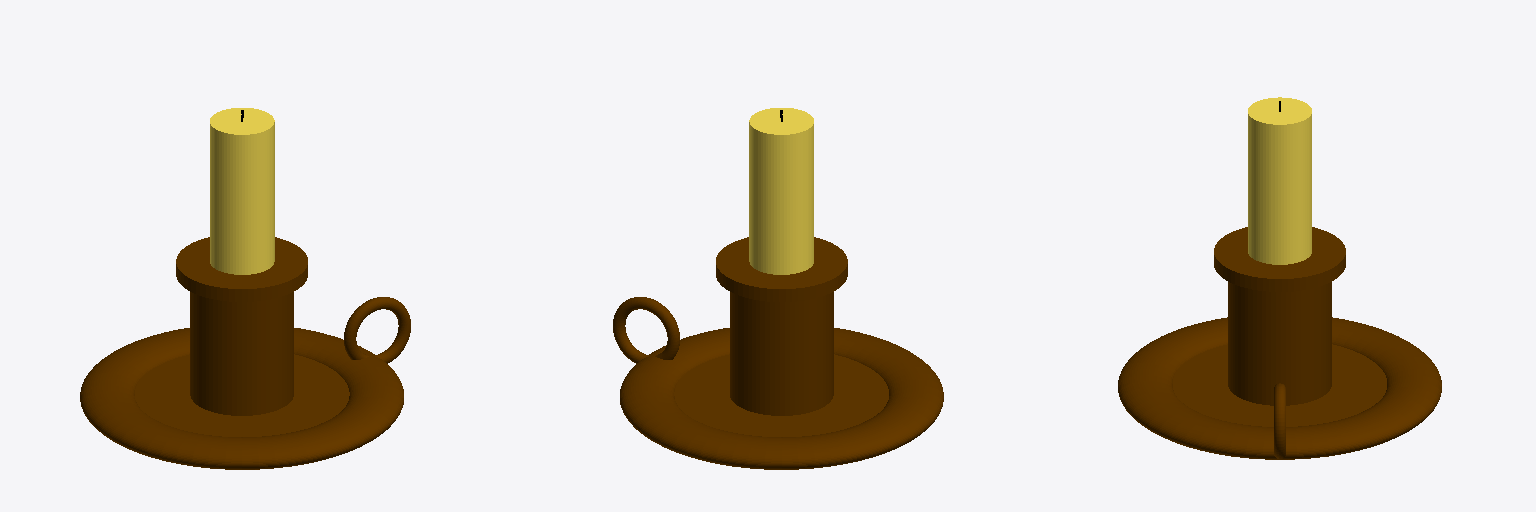
File: CandleStick.obj
3 renders of one model, left to right at view 1: azimuth 30°, elevation 25°; view 2: azimuth 150°, elevation 25°; view 3: azimuth 270°, elevation 25°, orthographic.
Visible parts, largest first — view 1: Torus, Cylinder.002, Cylinder, Cylinder.001, Cylinder.003, Torus.002; view 2: Torus, Cylinder.002, Cylinder, Cylinder.001, Cylinder.003, Torus.002; view 3: Torus, Cylinder.002, Cylinder, Cylinder.001, Cylinder.003, Torus.002.
Part boxes in pixels (x1,y1,x2,y2): Torus: (80,328,403,469); Cylinder.002: (190,292,293,415); Cylinder: (210,108,274,274); Cylinder.001: (135,354,349,436); Cylinder.003: (176,237,307,301); Torus.002: (344,297,410,363); Torus: (620,328,943,469); Cylinder.002: (730,292,833,415); Cylinder: (749,108,813,274); Cylinder.001: (674,354,888,436); Cylinder.003: (716,237,847,301); Torus.002: (613,297,679,363); Torus: (1118,317,1441,459); Cylinder.002: (1228,282,1331,405); Cylinder: (1248,97,1311,264); Cylinder.001: (1173,344,1386,426); Cylinder.003: (1214,227,1345,291); Torus.002: (1274,383,1285,458).
Size of the model in its own units: 5.9 by 5.44 by 5.38.